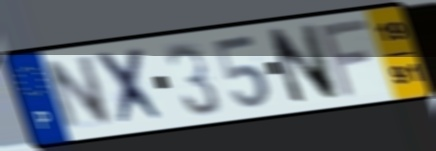3: (165, 40, 222, 118)
5: (211, 32, 273, 111)
F: (317, 15, 373, 101)
N: (263, 21, 342, 109), (43, 52, 116, 134)
X: (92, 43, 170, 130)
